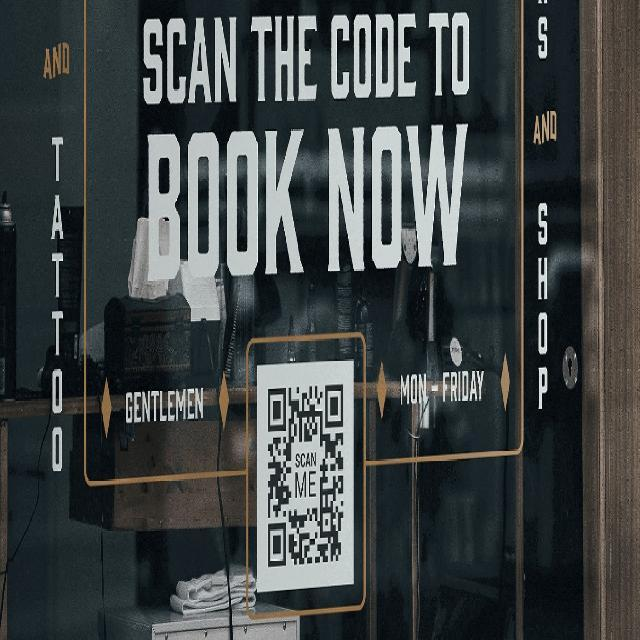qr_code: (267, 385, 344, 567)
